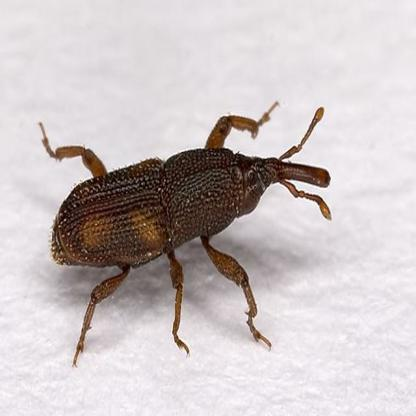rice-bug: (51, 108, 336, 330)
